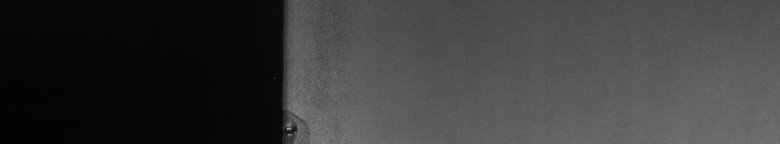hb: (292, 105, 318, 136)
